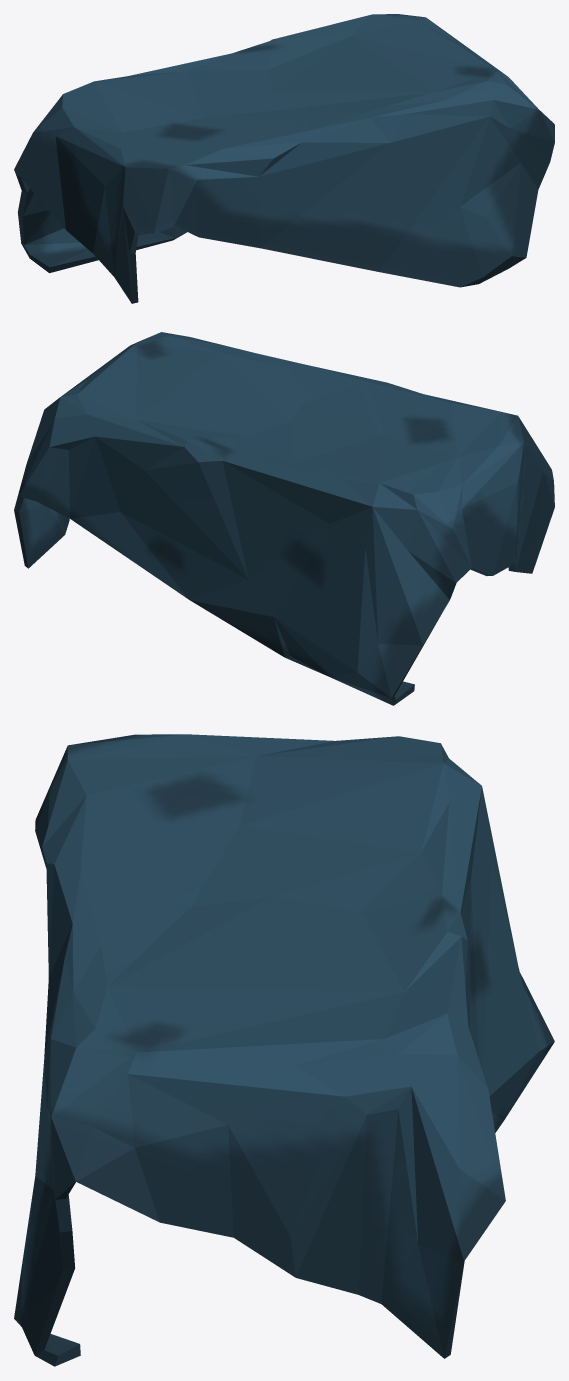
Rendered from SM_Prop_BarrelStack_01_Tarp.obj.
3 views of the same model, one above another, from view 1: azimuth 30°, elevation 25°; view 2: azimuth 150°, elevation 25°; view 3: azimuth 270°, elevation 25° (orthographic). The views are drawn at different scales.
Visible parts, largest first — view 1: SM_Prop_BarrelStack_01_Tarp_0; view 2: SM_Prop_BarrelStack_01_Tarp_0; view 3: SM_Prop_BarrelStack_01_Tarp_0.
Part boxes in pixels (left/top/right/bottom): SM_Prop_BarrelStack_01_Tarp_0: left=14, top=14, right=554, bottom=303; SM_Prop_BarrelStack_01_Tarp_0: left=14, top=332, right=554, bottom=705; SM_Prop_BarrelStack_01_Tarp_0: left=14, top=734, right=554, bottom=1366.
Bounding box in the file's own units: 3.3 × 1.33 × 1.93.
Materials: 1 (1 with a texture image).
